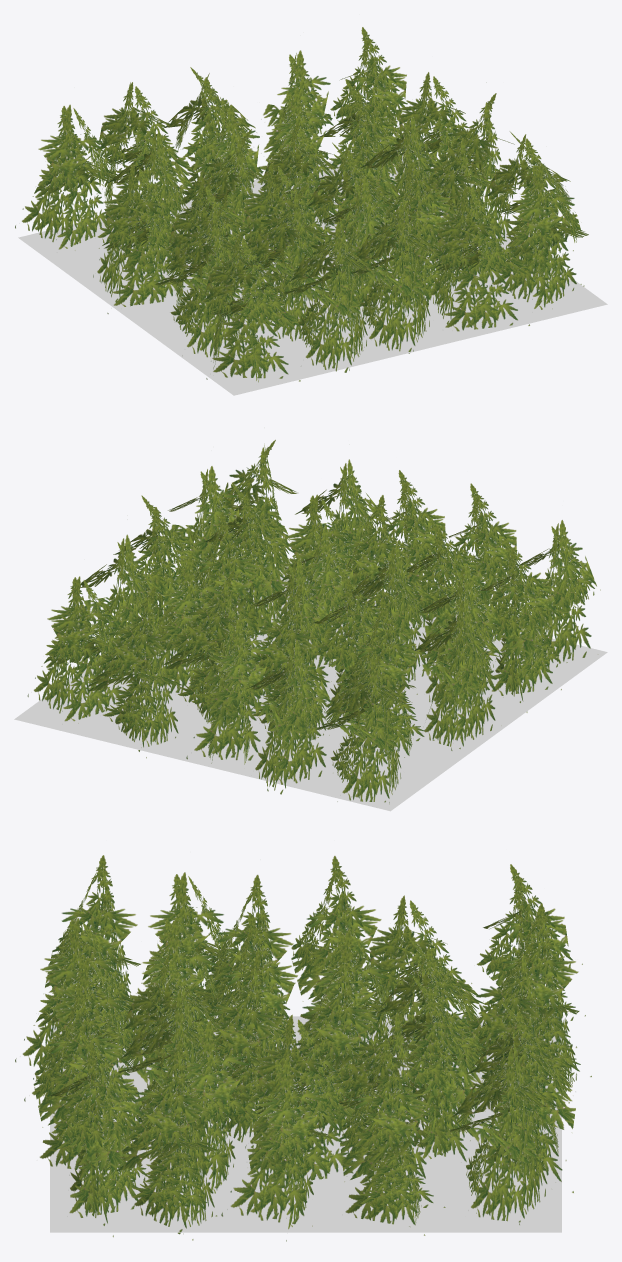
Rendered from hemp_field_0.gltf.
The picture shows the model from 3 angles, top to bottom: view 1: azimuth 30°, elevation 25°; view 2: azimuth 150°, elevation 25°; view 3: azimuth 270°, elevation 25°; orthographic projection. The views are drawn at different scales.
Visible parts, largest first — view 1: _lod0, ground, single_plant, single_plant.026, single_plant.001, single_plant.014, single_plant.006, single_plant.002, single_plant.025, single_plant.003, single_plant.024, single_plant.007 (+18 smaller); view 2: _lod0, ground, single_plant.023, single_plant.028, single_plant.014, single_plant.026, single_plant.024, single_plant.025, single_plant, single_plant.027, single_plant.008, single_plant.019 (+19 smaller); view 3: _lod0, ground, single_plant.020, single_plant.010, single_plant.004, single_plant.028, single_plant.019, single_plant.011, single_plant.014, single_plant.018, single_plant.003, single_plant.008 (+19 smaller).
Boxes of the visible parts, bbox=[...] form: _lod0: bbox=[15, 27, 584, 381]; ground: bbox=[18, 150, 607, 395]; single_plant: bbox=[202, 234, 300, 381]; single_plant.026: bbox=[15, 105, 111, 249]; single_plant.001: bbox=[291, 216, 377, 372]; single_plant.014: bbox=[98, 164, 196, 313]; single_plant.006: bbox=[246, 185, 328, 341]; single_plant.002: bbox=[348, 196, 437, 350]; single_plant.025: bbox=[96, 82, 192, 222]; single_plant.003: bbox=[431, 187, 529, 330]; single_plant.024: bbox=[163, 67, 256, 208]; single_plant.007: bbox=[325, 176, 398, 326]; _lod0: bbox=[35, 445, 596, 802]; ground: bbox=[14, 562, 607, 811]; single_plant.023: bbox=[87, 586, 178, 757]; single_plant.028: bbox=[27, 576, 122, 721]; single_plant.014: bbox=[414, 596, 496, 748]; single_plant.026: bbox=[317, 648, 410, 802]; single_plant.024: bbox=[186, 619, 280, 764]; single_plant.025: bbox=[254, 639, 332, 794]; single_plant: bbox=[517, 520, 596, 667]; single_plant.027: bbox=[344, 597, 434, 757]; single_plant.008: bbox=[208, 483, 294, 642]; single_plant.019: bbox=[113, 495, 203, 650]; _lod0: bbox=[15, 855, 591, 1239]; ground: bbox=[50, 1016, 561, 1232]; single_plant.020: bbox=[339, 1038, 445, 1235]; single_plant.010: bbox=[52, 1030, 147, 1224]; single_plant.004: bbox=[116, 1039, 217, 1240]; single_plant.028: bbox=[453, 1041, 559, 1224]; single_plant.019: bbox=[221, 1056, 333, 1241]; single_plant.011: bbox=[197, 954, 281, 1147]; single_plant.014: bbox=[291, 856, 386, 1040]; single_plant.018: bbox=[249, 1015, 365, 1181]; single_plant.003: bbox=[33, 982, 140, 1169]; single_plant.008: bbox=[143, 1020, 255, 1193].
Size of the model in its own units: 1.09 by 0.4227 by 1.16.
1 material, 1 textured.
